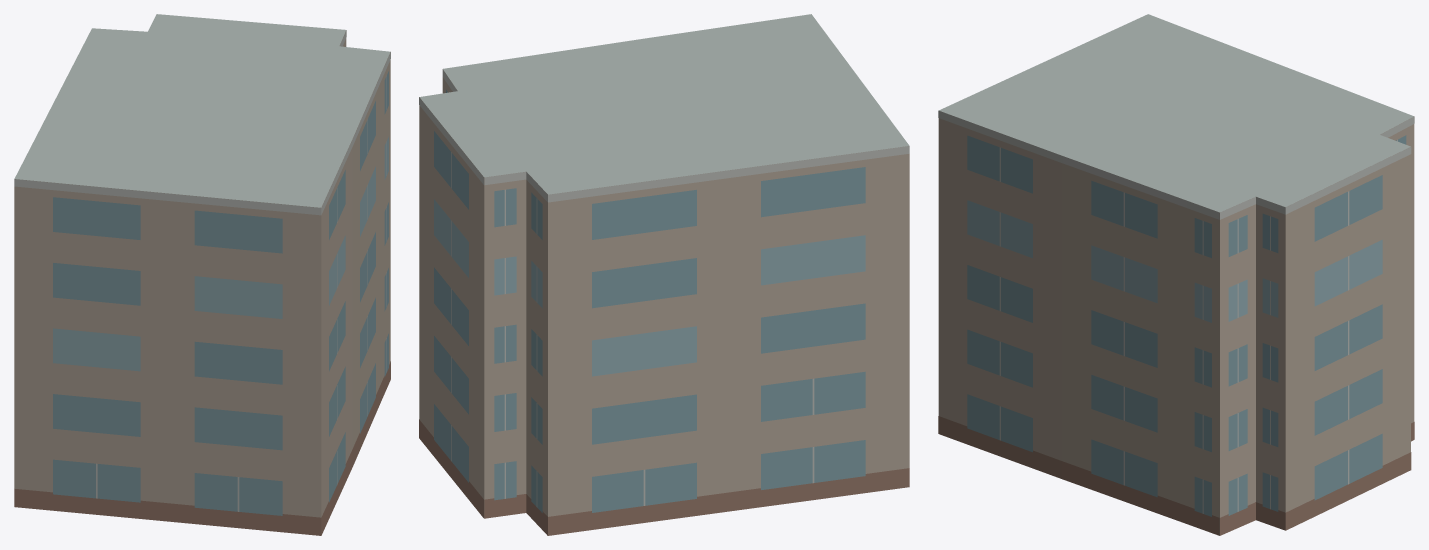
The model's file is survey-upis-32539089.glb.
3 renders of one model, left to right at view 1: azimuth 30°, elevation 25°; view 2: azimuth 150°, elevation 25°; view 3: azimuth 270°, elevation 25°, orthographic. The views are drawn at different scales.
Visible parts, largest first — view 1: survey-upis-32539089.tmp; view 2: survey-upis-32539089.tmp; view 3: survey-upis-32539089.tmp.
Boxes of the visible parts, x1,y1,x2,y2 form: survey-upis-32539089.tmp: [14, 14, 390, 535]; survey-upis-32539089.tmp: [419, 14, 909, 535]; survey-upis-32539089.tmp: [938, 14, 1414, 535].
Size of the model in its own units: 13.96 by 10.6 by 14.14.
